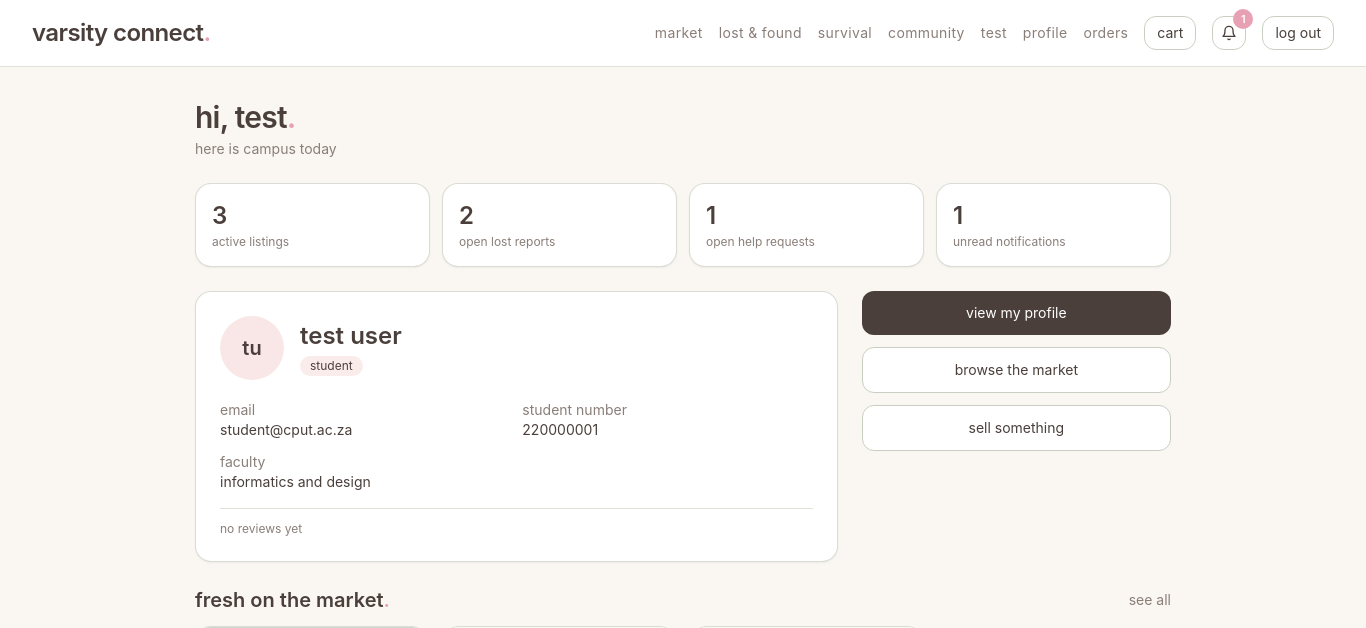
session handling › logout clears the token and leaves the dashboard
Expected: the heading "hi, test." is shown, [195,99,296,135]
Click the button "log out" at (1298, 33), box [1262,16,1334,50]
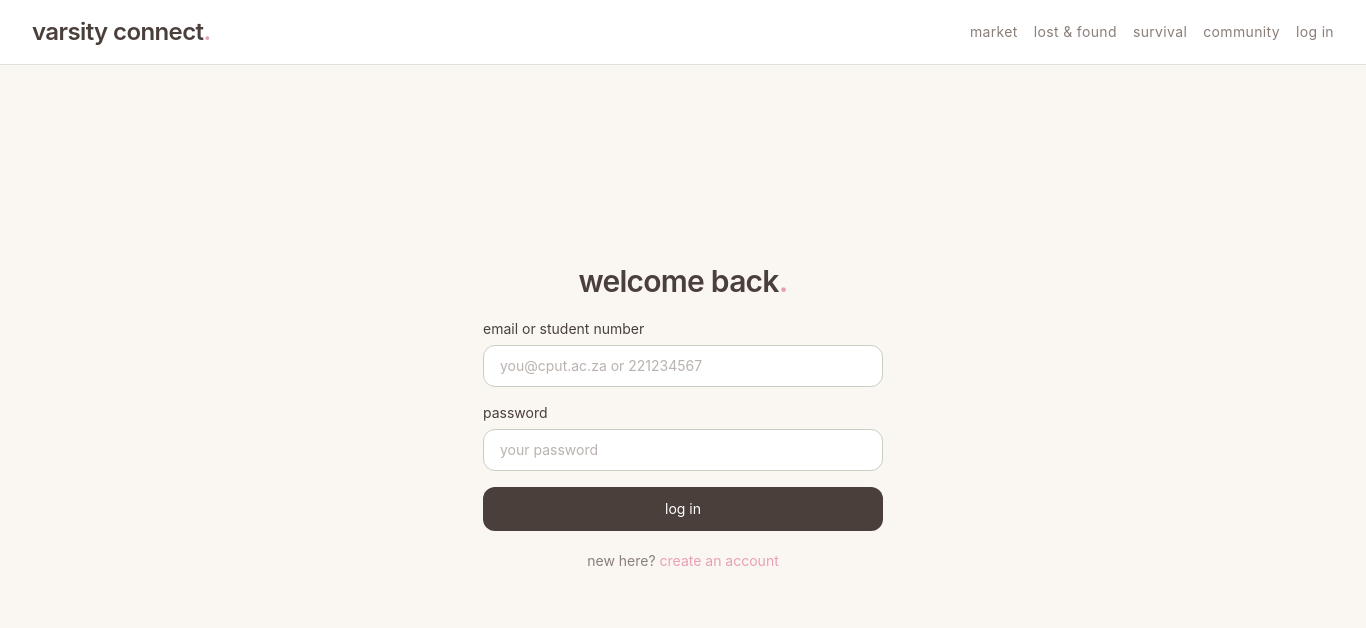
Expected: the heading "welcome back." is shown, [578,262,788,298]
